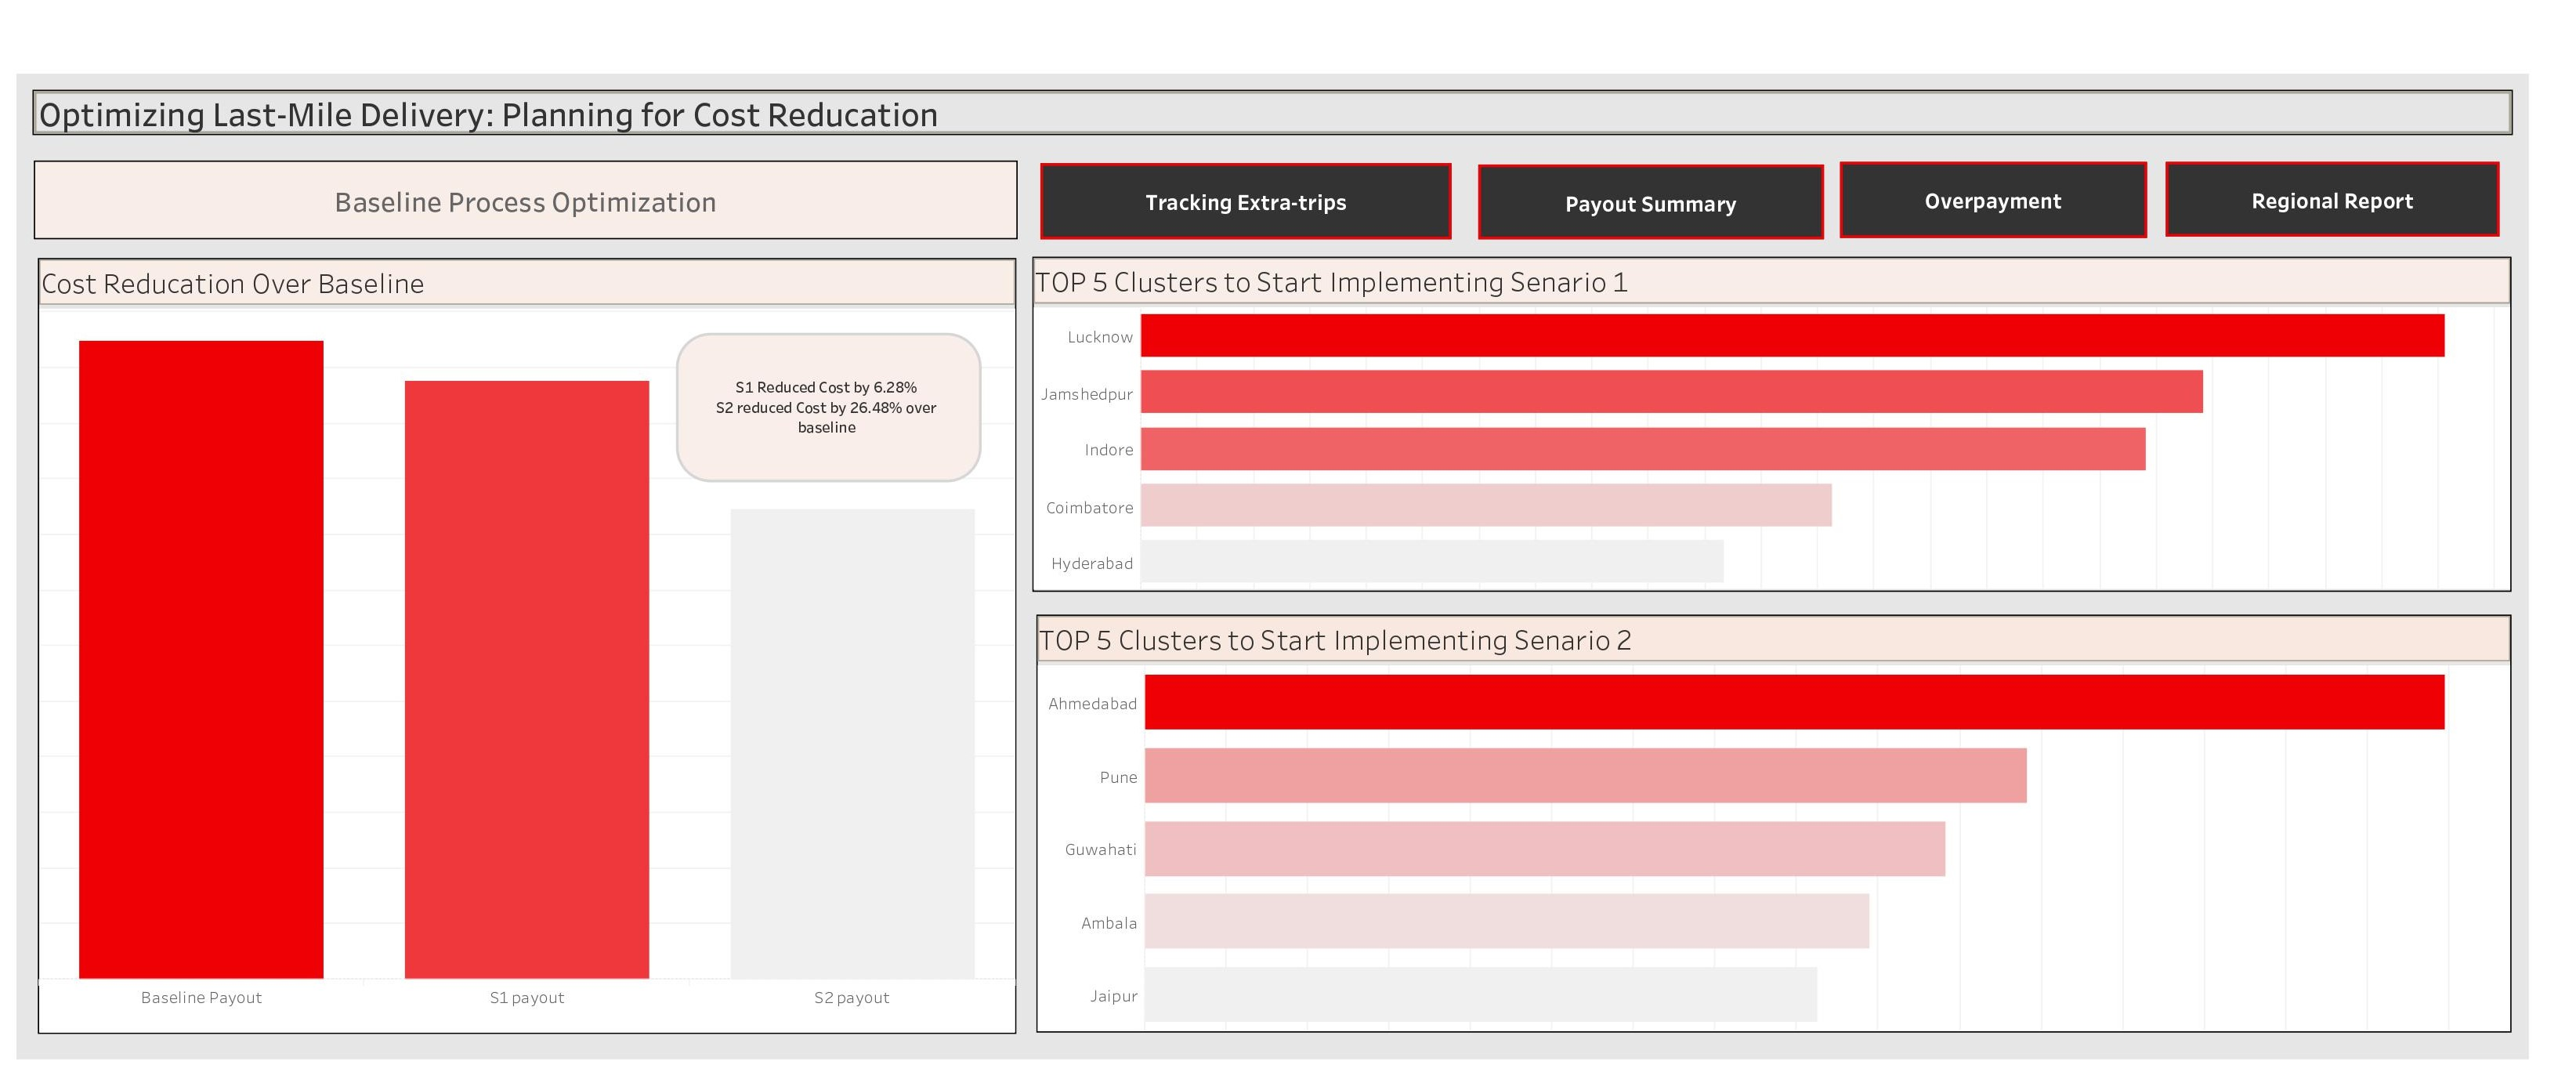

This screenshot's page, from the dashboard's own definition file:
{"tool":"tableau","page":{"name":"D5: Baseline Process Optimization","canvas":[1000,1000],"units":"permille","ordinal":4},"visuals":[{"type":"title","box":[4.7,11.2,990.6,58.9]},{"type":"text","box":[6.9,88,391.5,79.5]},{"type":"dashboard-object","box":[725.7,89.2,122.2,77.1]},{"type":"dashboard-object","box":[855.4,89.2,132.8,75.9]},{"type":"dashboard-object","box":[407.7,90.4,163.3,77.1]},{"type":"dashboard-object","box":[581.7,92.8,137.8,74.7]},{"type":"worksheet","title":"TOP 5 Clusters to Start Implementing Senario 1","mark":"Automatic","rows":["cluster_name"],"cols":["Calculation_502151361121931264"],"box":[404.6,185.5,588.5,339.8]},{"type":"worksheet","title":"Cost Reducation Over Baseline ","mark":"Automatic","box":[8.7,186.8,389,788]},{"type":"worksheet","title":"TOP 5 Clusters to Start Implementing Senario 2","mark":"Automatic","rows":["cluster_name"],"cols":["Calculation_502151361122820098"],"box":[405.9,549.4,587.3,422.9]}]}

Visuals, with their boxes on the dashboard's canvas, which has no fixed pixel size, in thousandths of its width and height (x1, y1, x2, y2). These are canvas units, not pixel positions in the 2576x1083 screenshot, which may show the page scaled, cropped or inside an application window:
title: <box>5,11,995,70</box>
text: <box>7,88,398,168</box>
dashboard-object: <box>726,89,848,166</box>
dashboard-object: <box>855,89,988,165</box>
dashboard-object: <box>408,90,571,168</box>
dashboard-object: <box>582,93,720,168</box>
"TOP 5 Clusters to Start Implementing Senario 1" worksheet: <box>405,186,993,525</box>
"Cost Reducation Over Baseline " worksheet: <box>9,187,398,975</box>
"TOP 5 Clusters to Start Implementing Senario 2" worksheet: <box>406,549,993,972</box>
